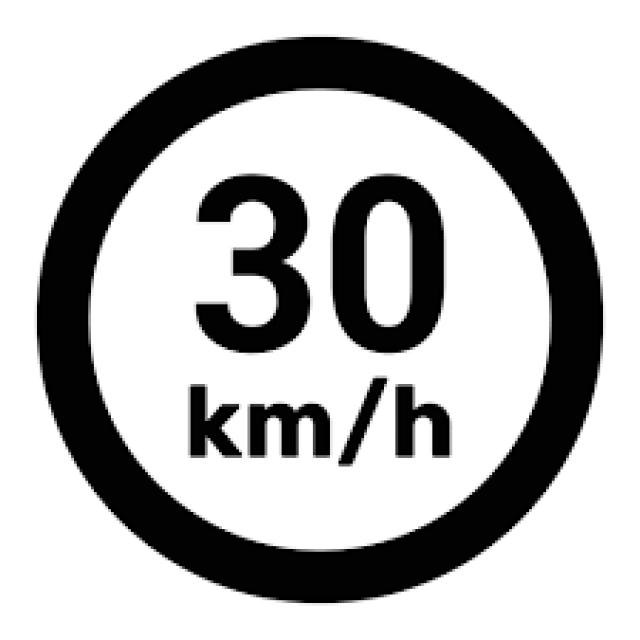Speed limit 30: (32, 29, 610, 604)
